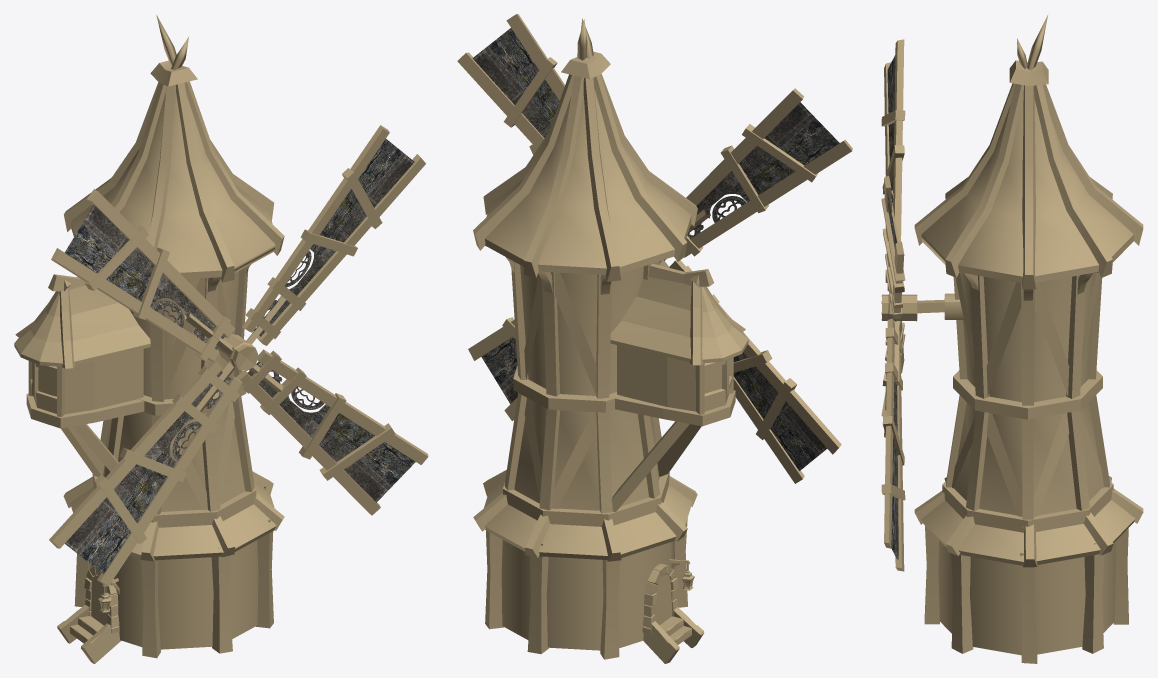
File: New_windmill.FBX
3 renders of one model, left to right at view 1: azimuth 30°, elevation 25°; view 2: azimuth 150°, elevation 25°; view 3: azimuth 270°, elevation 25°, orthographic.
Parts seen in each view (by area): view 1: WindMill; view 2: WindMill; view 3: WindMill.
Part boxes in pixels (x1,y1,x2,y2): WindMill: (14, 15, 428, 663); WindMill: (457, 14, 852, 663); WindMill: (881, 14, 1143, 663).
Bounding box in the file's own units: 977 × 1503 × 577.
